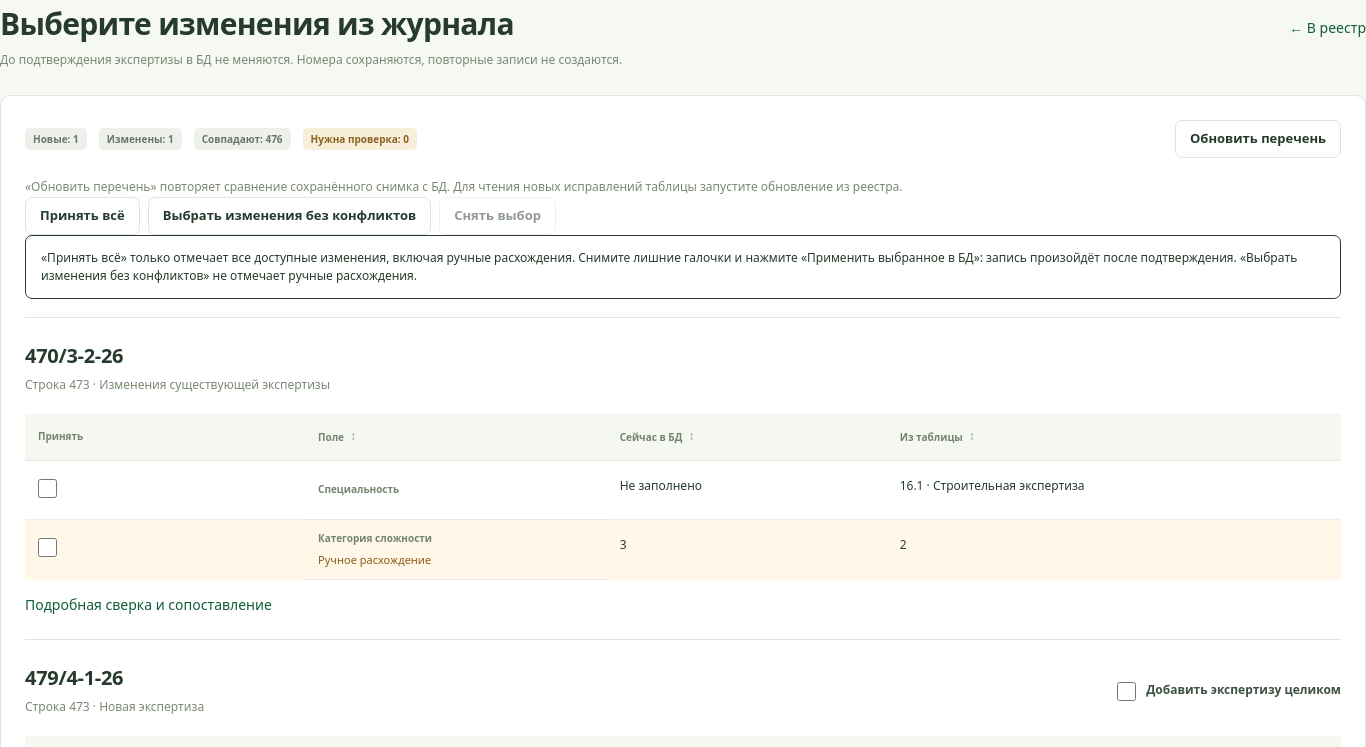
Test: sends only the explicitly accepted field, not other changes or another new expertise
The image size is (1366, 747).
Click the checkbox named "Принять Специальность для 470/3-2-26": [48, 488] box x1=38 y1=479 x2=57 y2=498
(page scrolled)
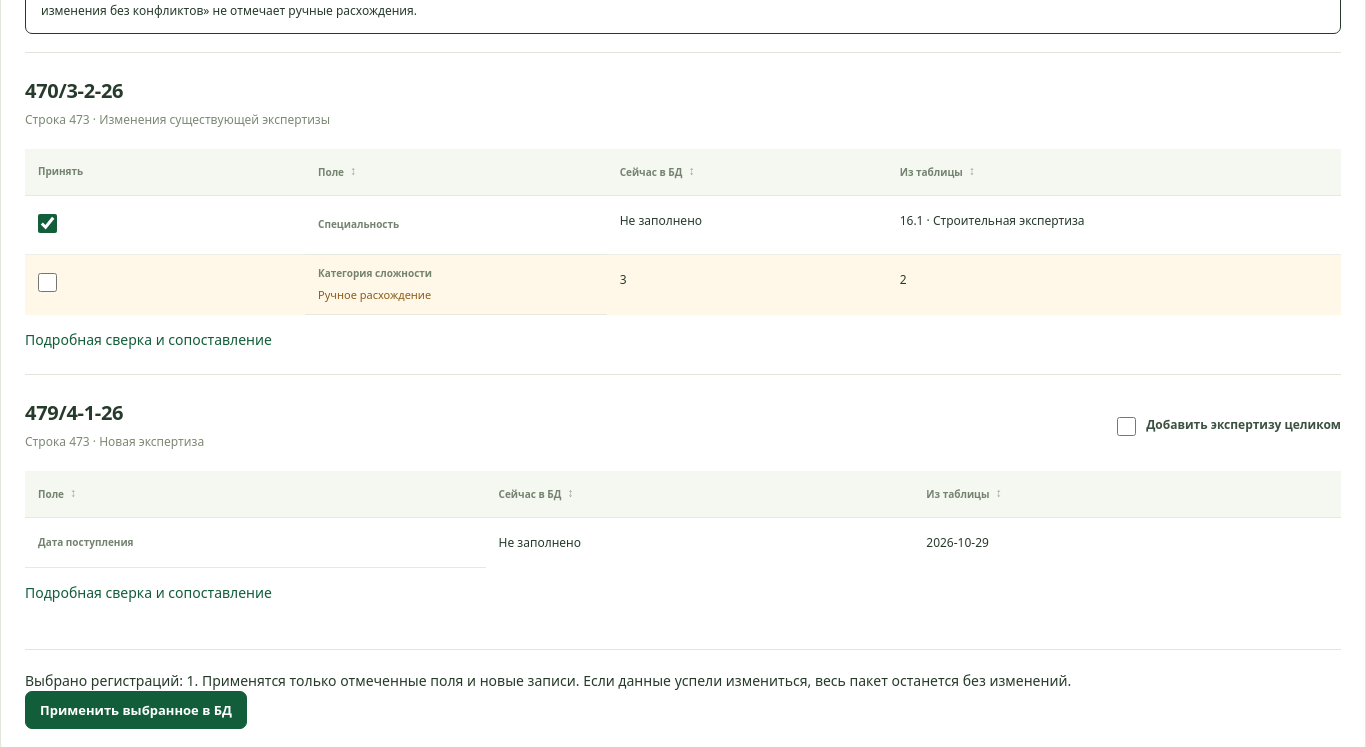
Click the button "Применить выбранное в БД": [136, 710] box x1=25 y1=691 x2=247 y2=729
(page scrolled)
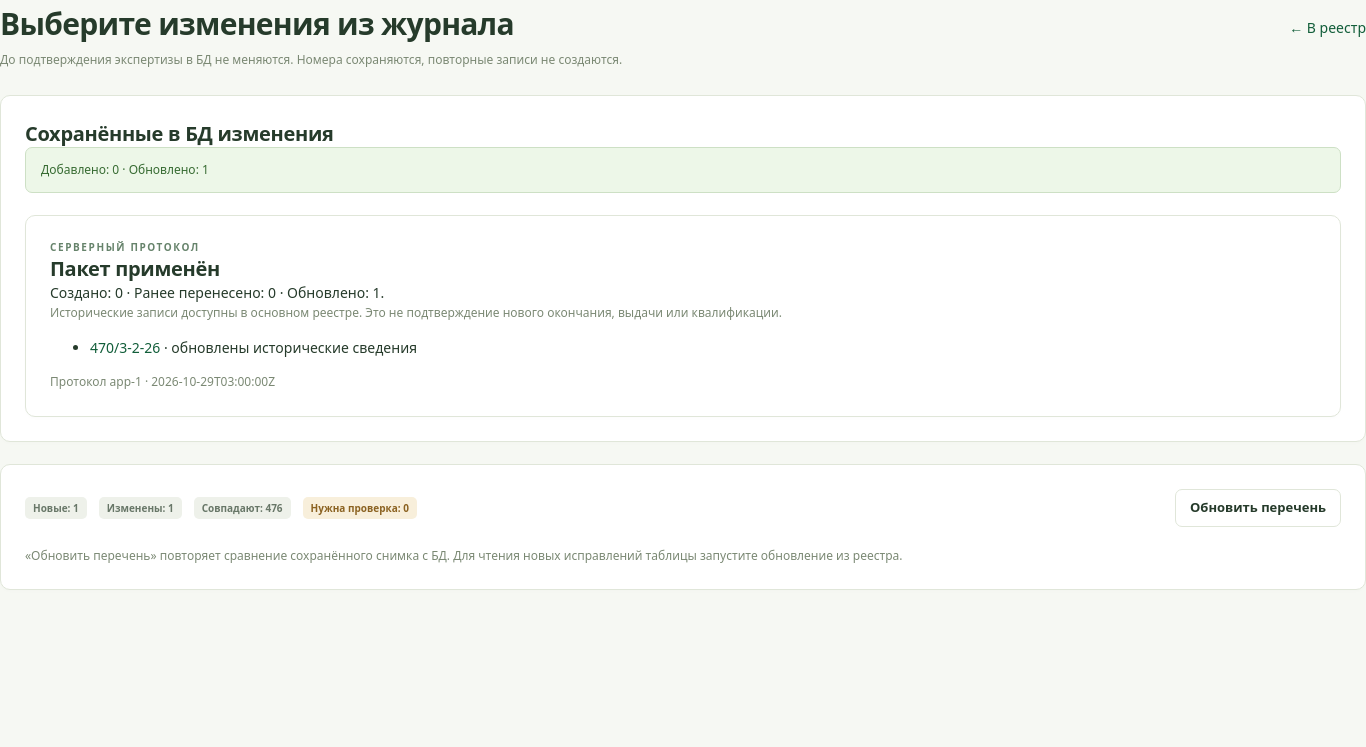
Result: the text "Обновлено: 1" is shown at x1=41 y1=161 x2=209 y2=178
Result: the text "Сохранённые в БД изменения" is shown at x1=25 y1=120 x2=334 y2=147
